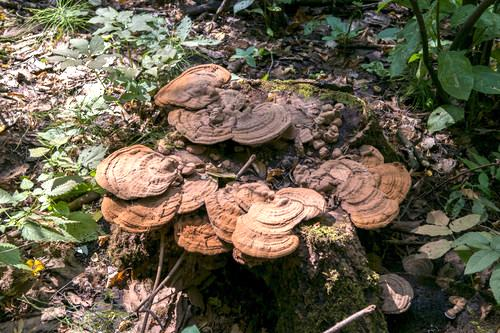Ganoderma - Fruit Body: (97, 144, 218, 235), (155, 62, 290, 141), (220, 180, 329, 259), (334, 144, 412, 227)
